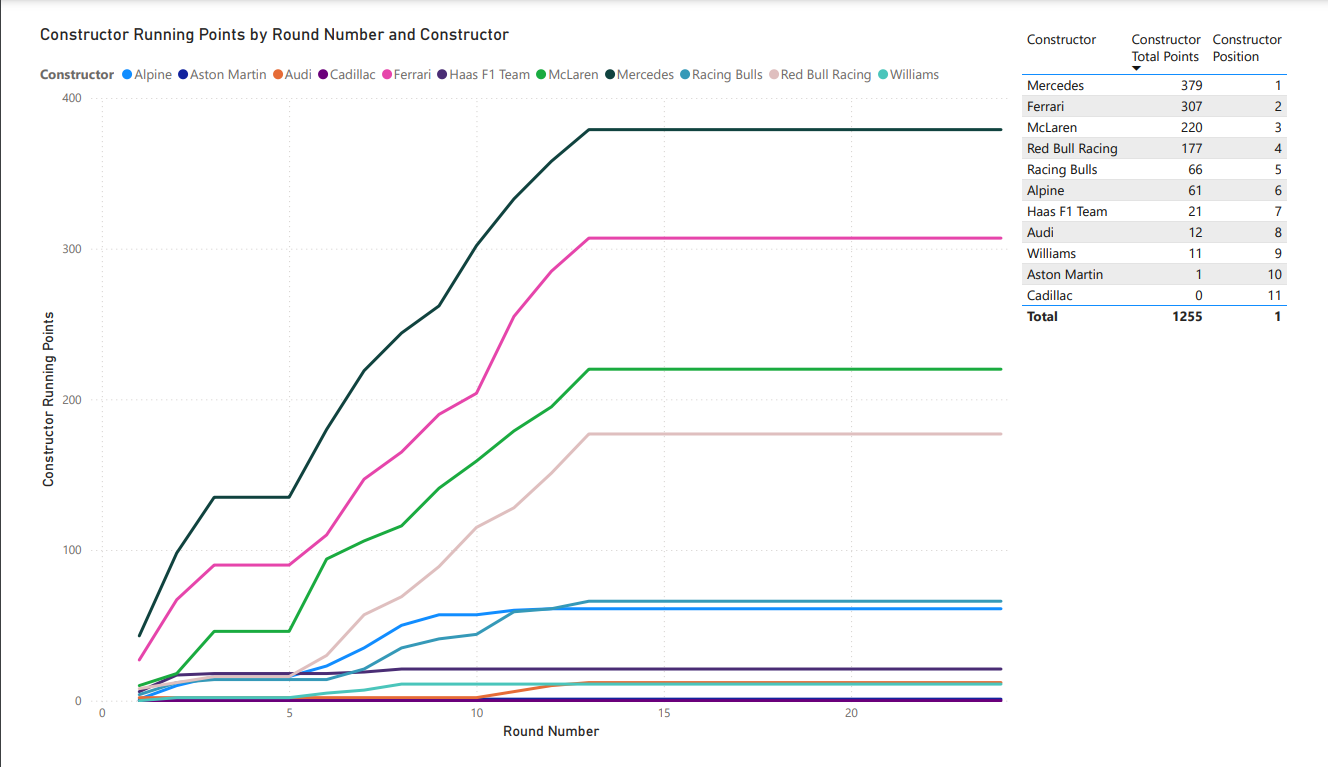

The page's visual inventory and layout, read from the dashboard file:
{"tool":"powerbi","page":{"name":"Constructors","canvas":[1280,720],"ordinal":1},"visuals":[{"type":"lineChart","fields":{"Series":["Constructors Standings.Constructor"],"Y":["Constructors Standings.Constructor Running Points"],"Category":["Constructors Standings.Round Number"]},"box":[9.6,0,981.1,720.4],"z":0},{"type":"tableEx","fields":{"Values":["Constructors Standings.Constructor","Constructors Standings.Constructor Total Points","Constructors Standings.Constructor Position"]},"box":[990.7,0,289.5,323.8],"z":1000}]}

Visuals, with their boxes in screenshot pixels (x1, y1, x2, y2), scaled from the page's 1280x720 canvas onto the 1328x767 screenshot:
lineChart - Constructors Standings.Constructor x Constructors Standings.Constructor Running Points: x1=10, y1=0, x2=1028, y2=766
tableEx - Constructors Standings.Constructor x Constructors Standings.Constructor Total Points: x1=1028, y1=0, x2=1327, y2=345
